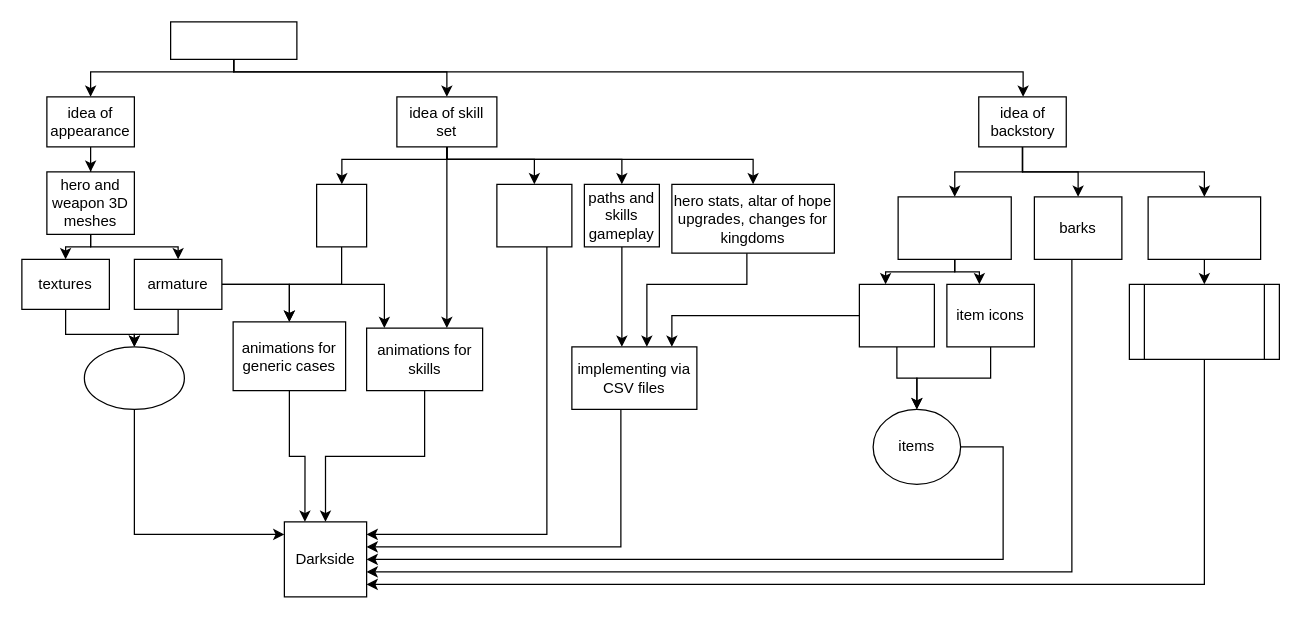
Image size: 1301x619. Some labels were removed from this diagram. Here are the shapes that lost their labels. From the top down, the centre of each, then its label:
At point (233, 40): "general idea of the hero".
At point (341, 215): "VFX, SFX".
At point (534, 215): "skill icons".
At point (954, 227): "trinkets and signature item".
At point (1204, 227): "shrine of reflection".
At point (896, 315): "item gameplay effects".
At point (1203, 321): "narration, origin models and skills, ghosts of the past".
At point (133, 377): "3D model".
